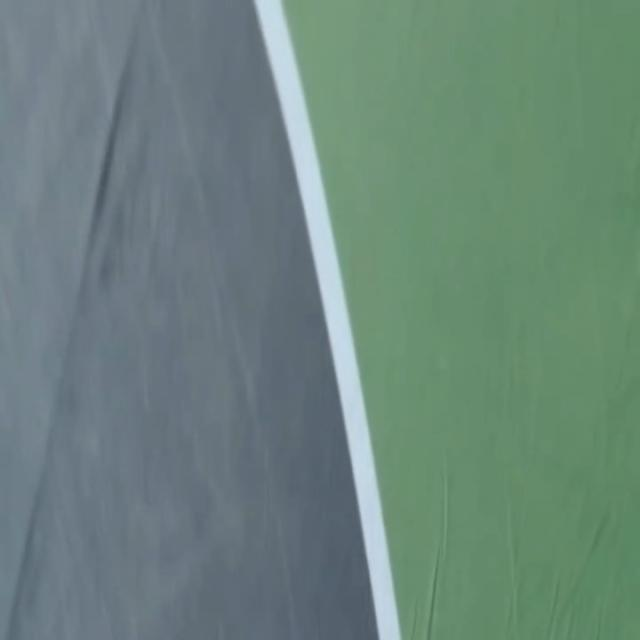right: (253, 0, 400, 639)
